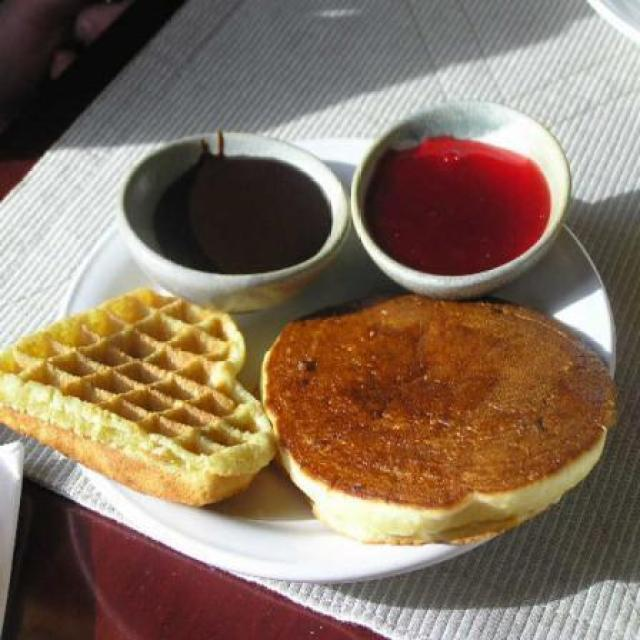Waffle: (0, 286, 273, 513)
